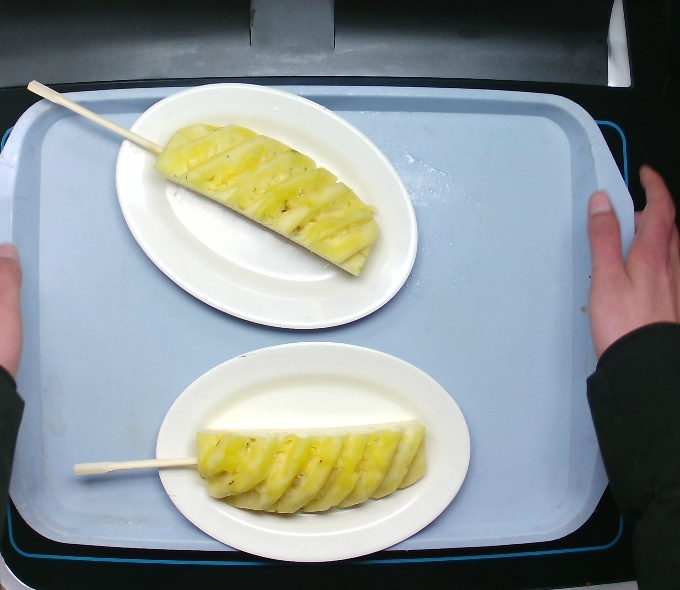wcq-BoLuo: (139, 112, 388, 286), (167, 412, 437, 521)
